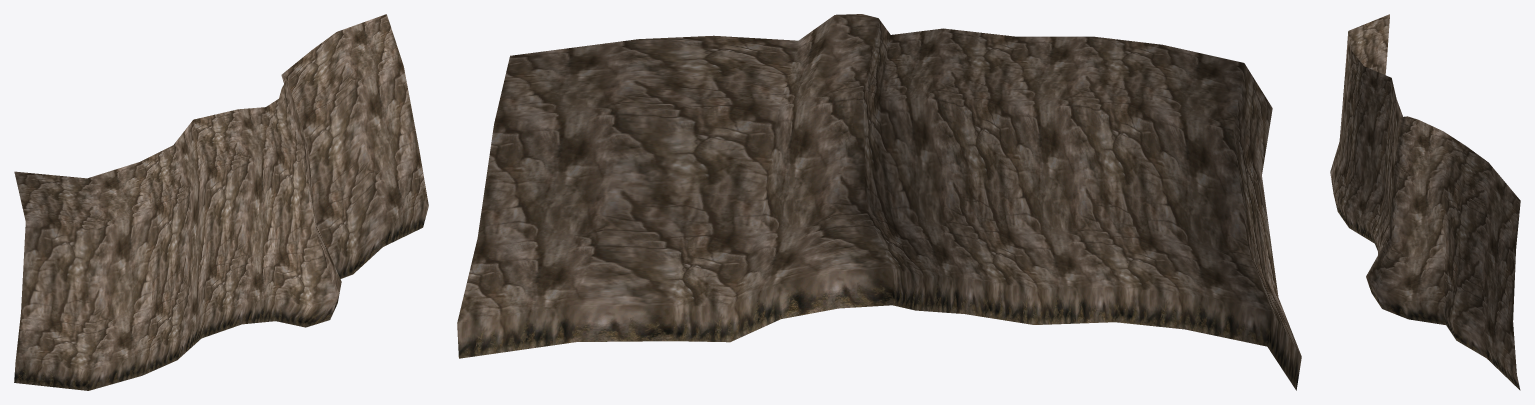
Rendered from OVERHILL_A_01_OH_B_OBJECT12.fbx.
The picture shows the model from 3 angles, left to right: view 1: azimuth 30°, elevation 25°; view 2: azimuth 150°, elevation 25°; view 3: azimuth 270°, elevation 25°; orthographic projection. The views are drawn at different scales.
Parts seen in each view (by area): view 1: OVERHILL_A_01_OH_B_OBJECT12; view 2: OVERHILL_A_01_OH_B_OBJECT12; view 3: OVERHILL_A_01_OH_B_OBJECT12.
Part boxes in pixels (x1=…): OVERHILL_A_01_OH_B_OBJECT12: x1=14, y1=14, x2=428, y2=390; OVERHILL_A_01_OH_B_OBJECT12: x1=457, y1=14, x2=1301, y2=390; OVERHILL_A_01_OH_B_OBJECT12: x1=1330, y1=14, x2=1520, y2=390.
Bounding box in the file's own units: 175597 × 81272 × 72492.
2 materials, 2 textured.
